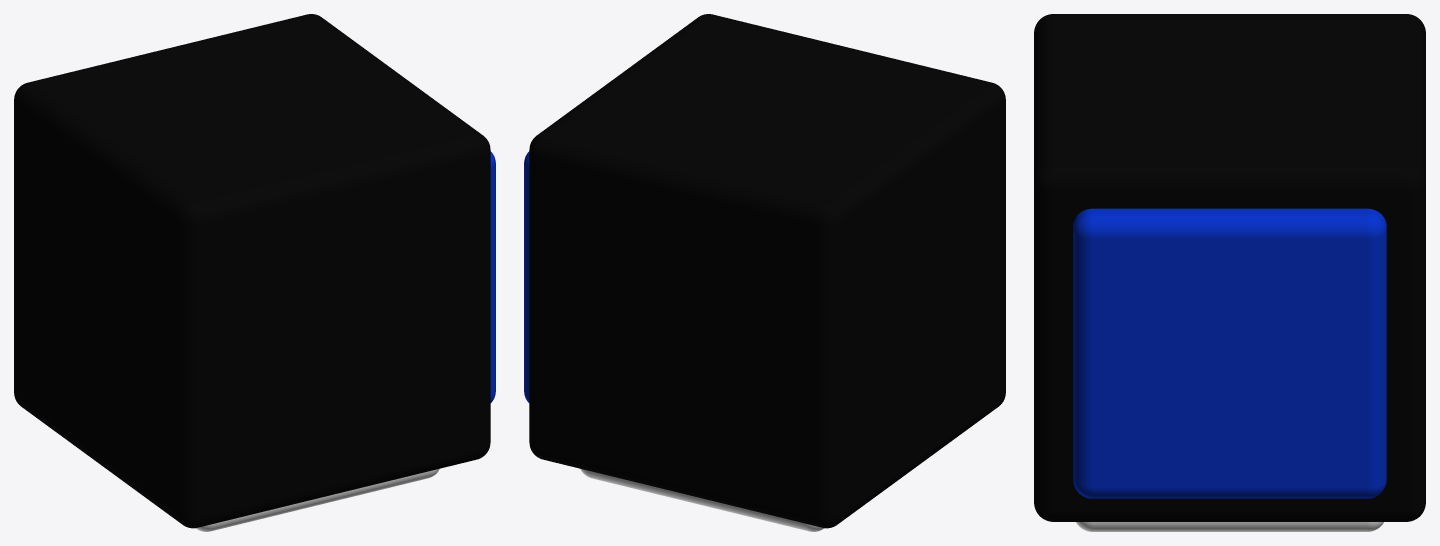
The model's file is cubinho(-1, -1, 0).obj.
3 renders of one model, left to right at view 1: azimuth 30°, elevation 25°; view 2: azimuth 150°, elevation 25°; view 3: azimuth 270°, elevation 25°, orthographic. The views are drawn at different scales.
Parts seen in each view (by area): view 1: (-1,_-1,_0); view 2: (-1,_-1,_0); view 3: (-1,_-1,_0).
Part boxes in pixels (x1,y1,x2,y2): (-1,_-1,_0): [14, 14, 495, 531]; (-1,_-1,_0): [524, 14, 1005, 531]; (-1,_-1,_0): [1034, 14, 1425, 531].
Bounding box in the file's own units: 2.15 × 2.15 × 2.
